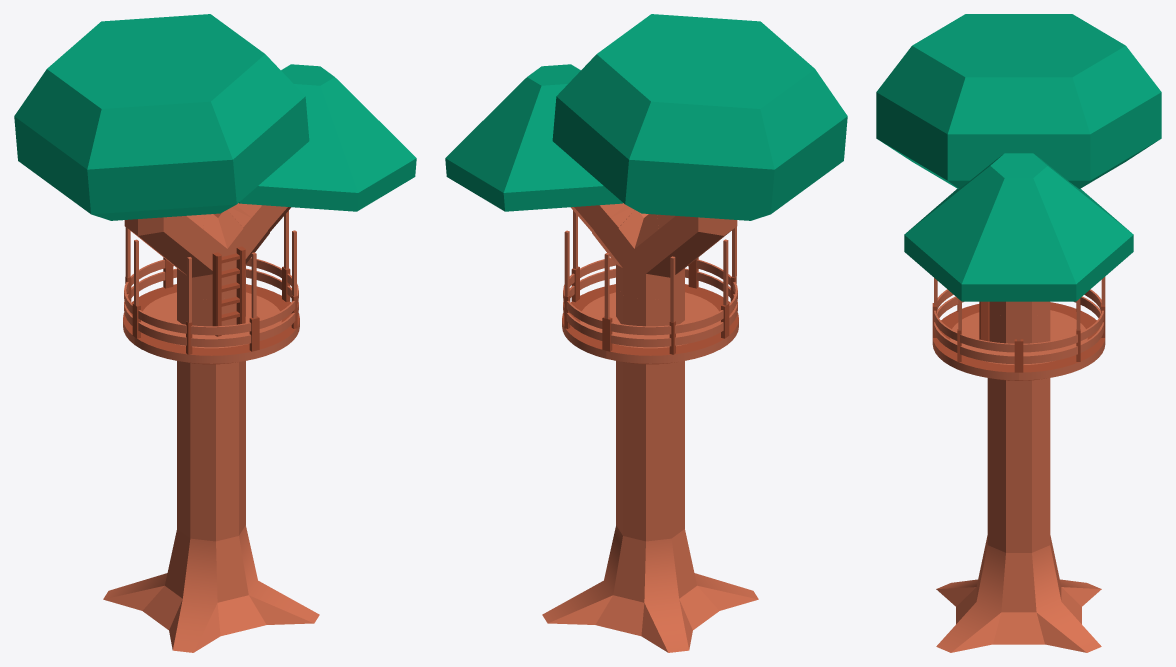
The model's file is Dart.fbx.
The picture shows the model from 3 angles, left to right: view 1: azimuth 30°, elevation 25°; view 2: azimuth 150°, elevation 25°; view 3: azimuth 270°, elevation 25°; orthographic projection. The views are drawn at different scales.
Parts seen in each view (by area): view 1: mergedBlocks; view 2: mergedBlocks; view 3: mergedBlocks.
Boxes of the visible parts, x1,y1,x2,y2 form: mergedBlocks: [14, 14, 416, 652]; mergedBlocks: [445, 14, 847, 652]; mergedBlocks: [876, 14, 1161, 652].
Bounding box in the file's own units: 21.96 × 35.33 × 16.51.
